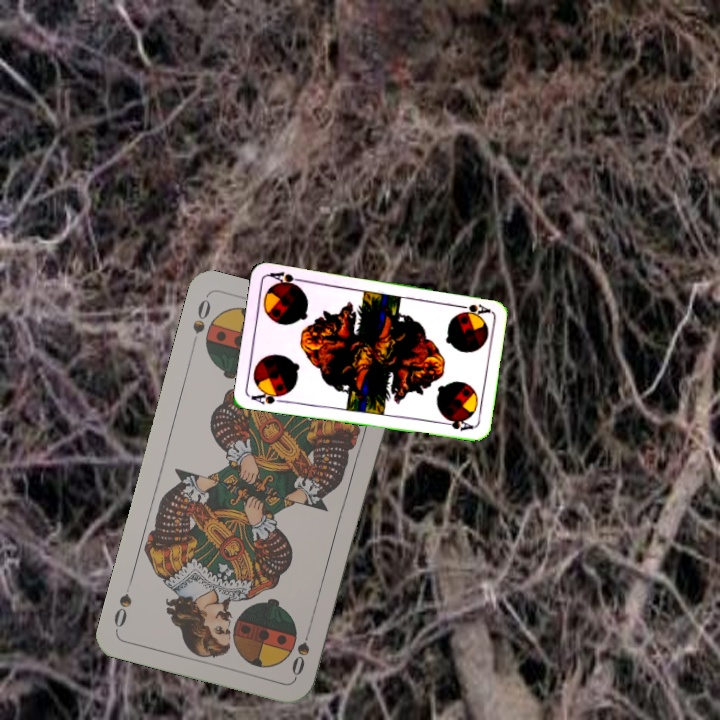SA: (247, 386, 289, 407), (451, 299, 492, 316)
SO: (287, 622, 315, 680), (188, 295, 213, 336)
